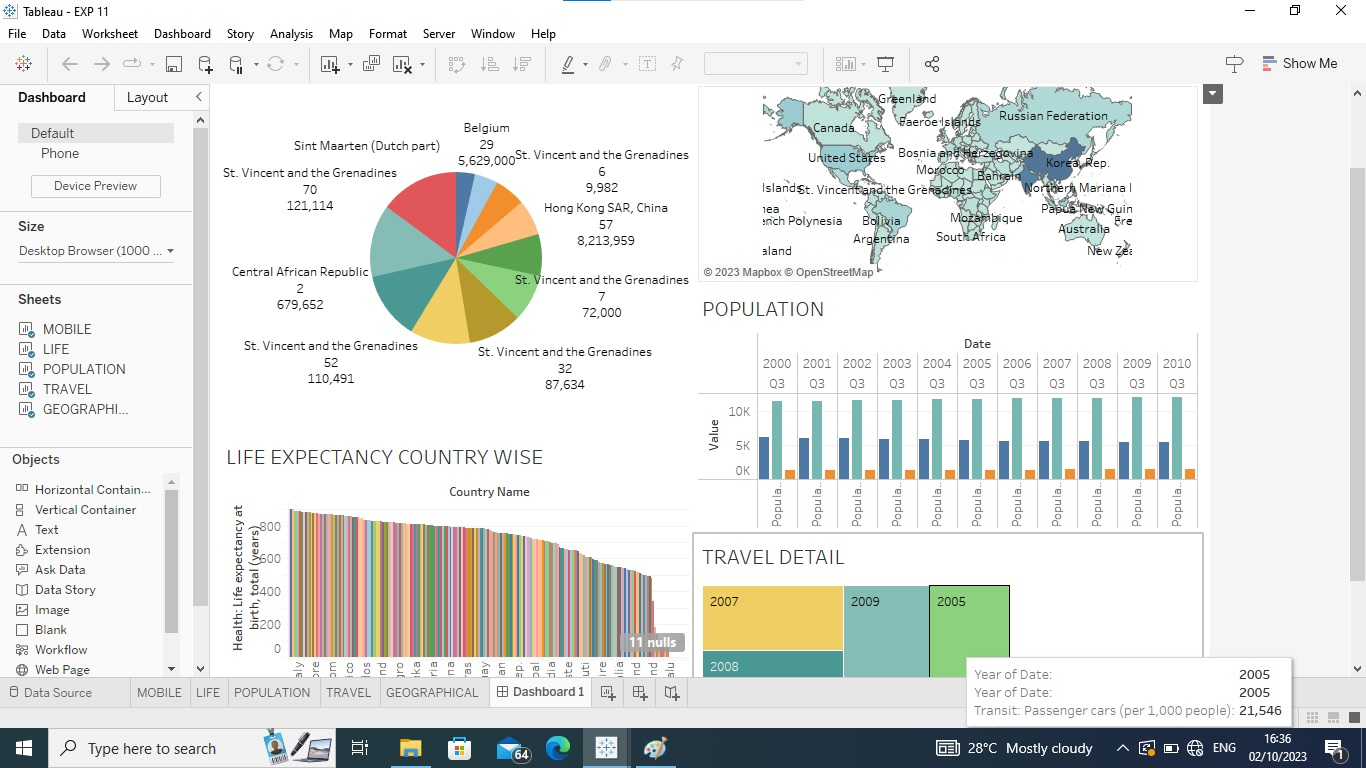

This screenshot's page, from the dashboard's own definition file:
{"tool":"tableau","page":{"name":"Dashboard 1","canvas":[1000,800],"ordinal":0},"visuals":[{"type":"title","box":[8,8,984,42]},{"type":"worksheet","title":"MOBILE","mark":"Pie","box":[8,50,476,394.7]},{"type":"worksheet","title":"GEOGRAPHICAL","mark":"Automatic","box":[484,50,508,247.3]},{"type":"worksheet","title":"POPULATION","mark":"Bar","cols":["Date","Date"],"box":[484,297.3,508,247.3]},{"type":"worksheet","title":"LIFE","mark":"Automatic","rows":[" Life expectancy at birth, total (years)"],"cols":["Country Name"],"box":[8,444.7,476,347.3]},{"type":"worksheet","title":"TRAVEL","mark":"Automatic","box":[484,544.7,508,247.3]}]}

Visuals, with their boxes on the page's 1000x800 design canvas (x1, y1, x2, y2). These are canvas units, not pixel positions in the 1366x768 screenshot, which may show the page scaled, cropped or inside an application window:
title: {"x1": 8, "y1": 8, "x2": 992, "y2": 50}
"MOBILE" worksheet (Pie marks): {"x1": 8, "y1": 50, "x2": 484, "y2": 445}
"GEOGRAPHICAL" worksheet: {"x1": 484, "y1": 50, "x2": 992, "y2": 297}
"POPULATION" worksheet (Bar marks): {"x1": 484, "y1": 297, "x2": 992, "y2": 545}
"LIFE" worksheet: {"x1": 8, "y1": 445, "x2": 484, "y2": 792}
"TRAVEL" worksheet: {"x1": 484, "y1": 545, "x2": 992, "y2": 792}
